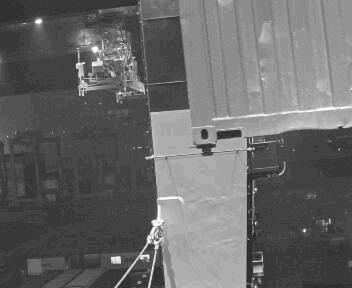twist_lock_1: (192, 139, 217, 160)
